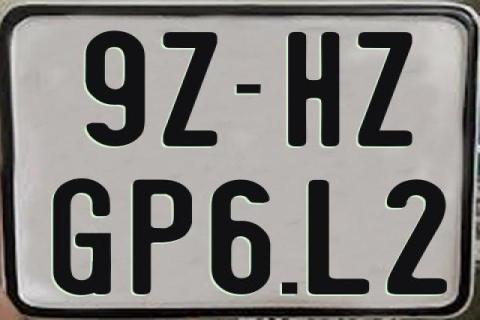0: (82, 31, 147, 147), (211, 178, 276, 294), (384, 179, 447, 295)
G: (52, 177, 110, 299)
H: (288, 31, 346, 145)
L: (308, 178, 374, 296)
P: (133, 177, 195, 292)
Z: (357, 32, 415, 150), (162, 30, 219, 146)
